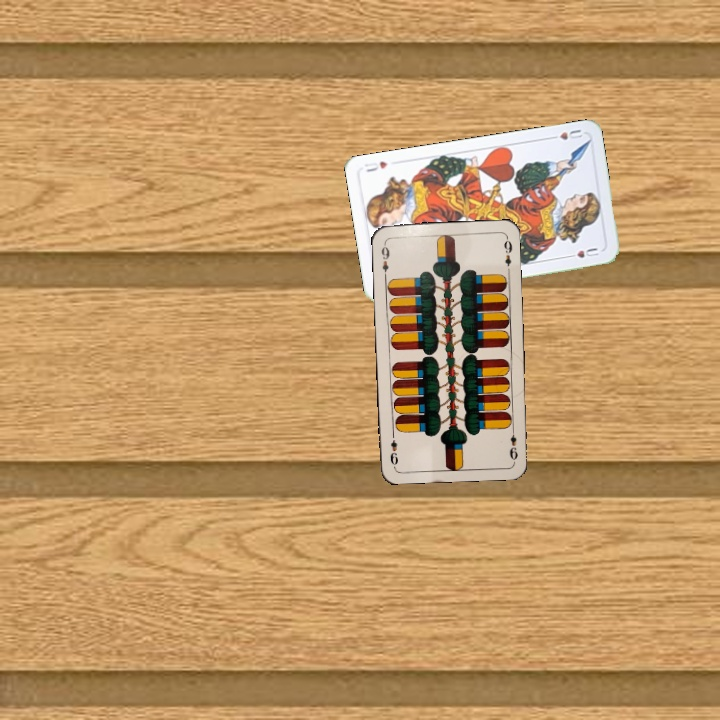E9: (377, 239, 392, 279), (505, 423, 520, 463)
HU: (545, 125, 585, 143)
